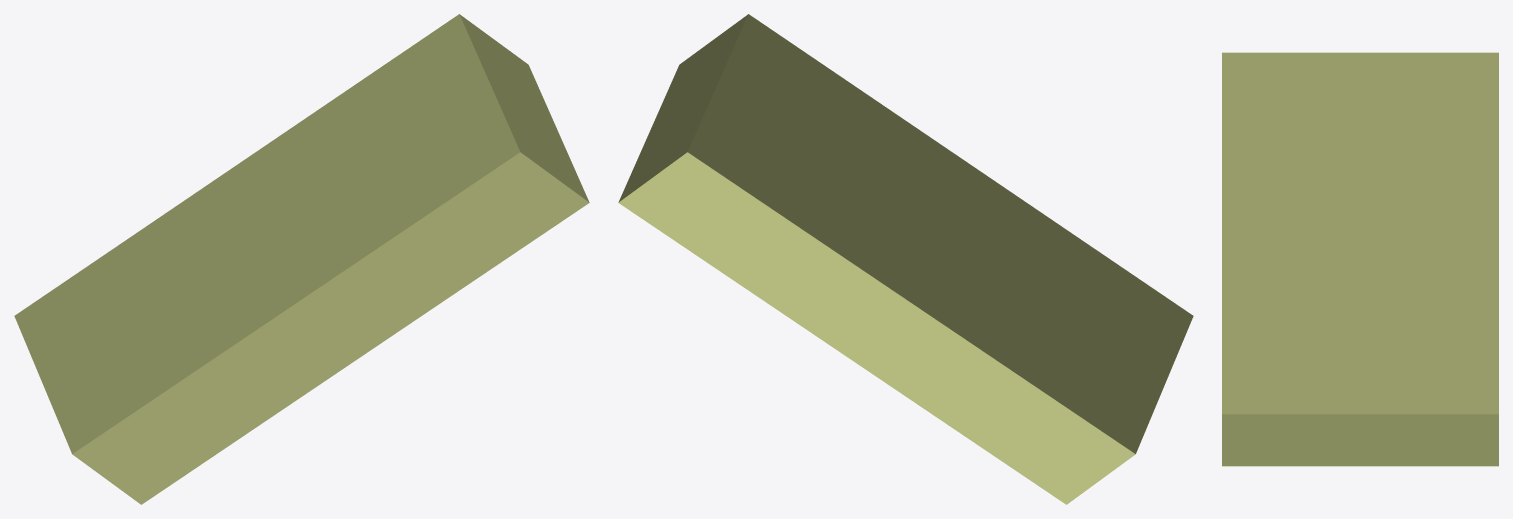
3 views of the same model, side by side, from view 1: azimuth 30°, elevation 25°; view 2: azimuth 150°, elevation 25°; view 3: azimuth 270°, elevation 25° (orthographic). The views are drawn at different scales.
Parts seen in each view (by area): view 1: 0_1_1_3_3_0_3_1_3_2; view 2: 0_1_1_3_3_0_3_1_3_2; view 3: 0_1_1_3_3_0_3_1_3_2.
Part boxes in pixels (<box>): 0_1_1_3_3_0_3_1_3_2: <box>14,14,589,504</box>; 0_1_1_3_3_0_3_1_3_2: <box>618,14,1193,504</box>; 0_1_1_3_3_0_3_1_3_2: <box>1222,52,1498,466</box>.
Size of the model in its own units: 25.32 by 16.53 by 6.
